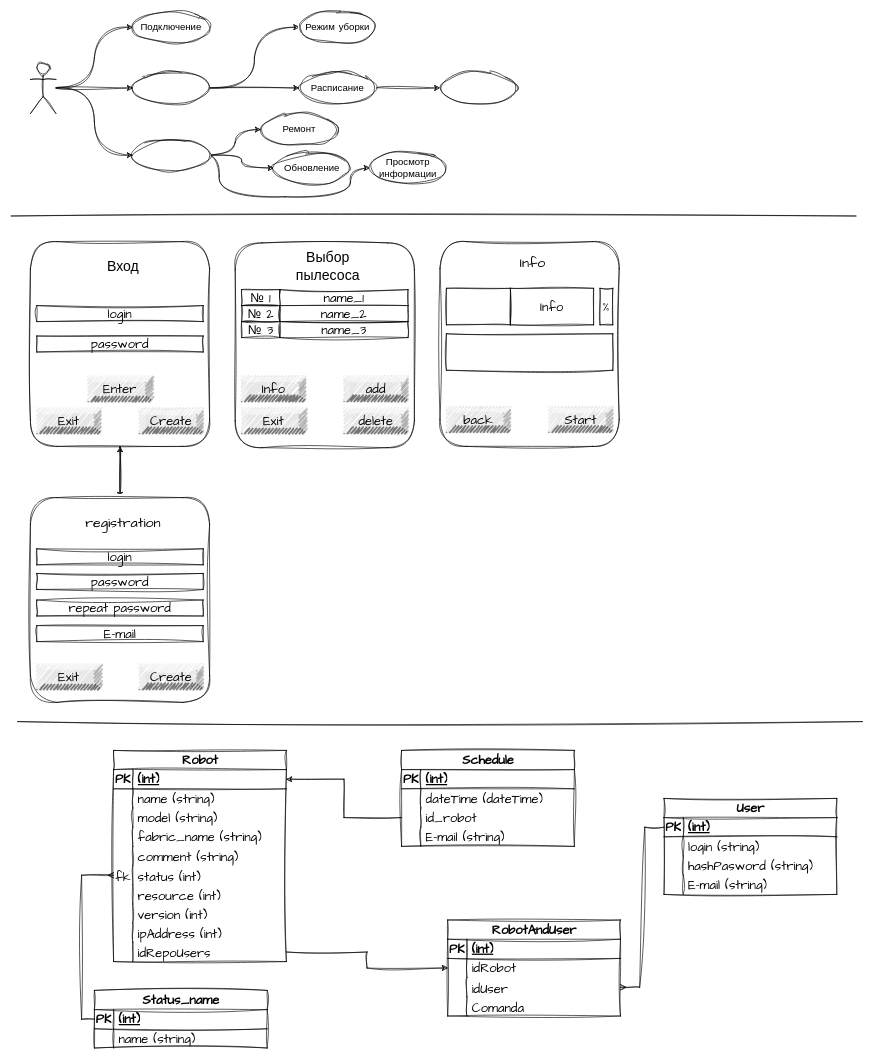
Image size: 874x1059. Some labels were removed from this diagram. Each missing label, with the centre of its shape:
Actor: point 43,88
photo: point 478,306
settings: point 529,351
График: point 478,87
Обслуживание: point 171,155
Уборка: point 171,87
